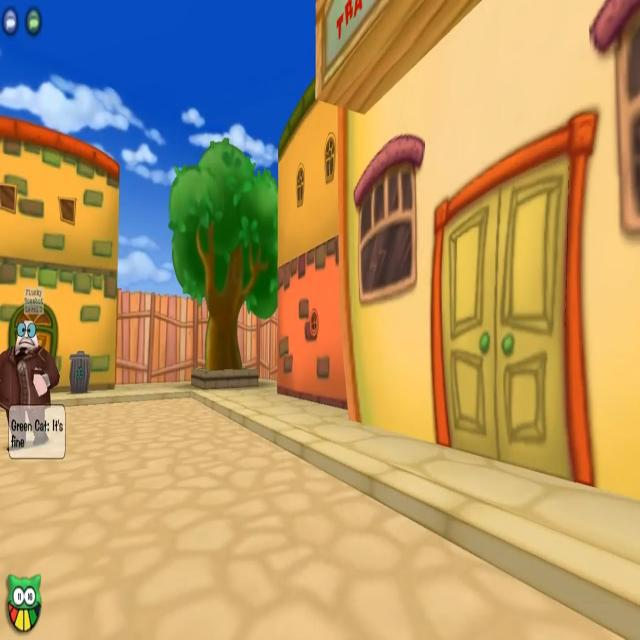flunky: (0, 322, 56, 411)
